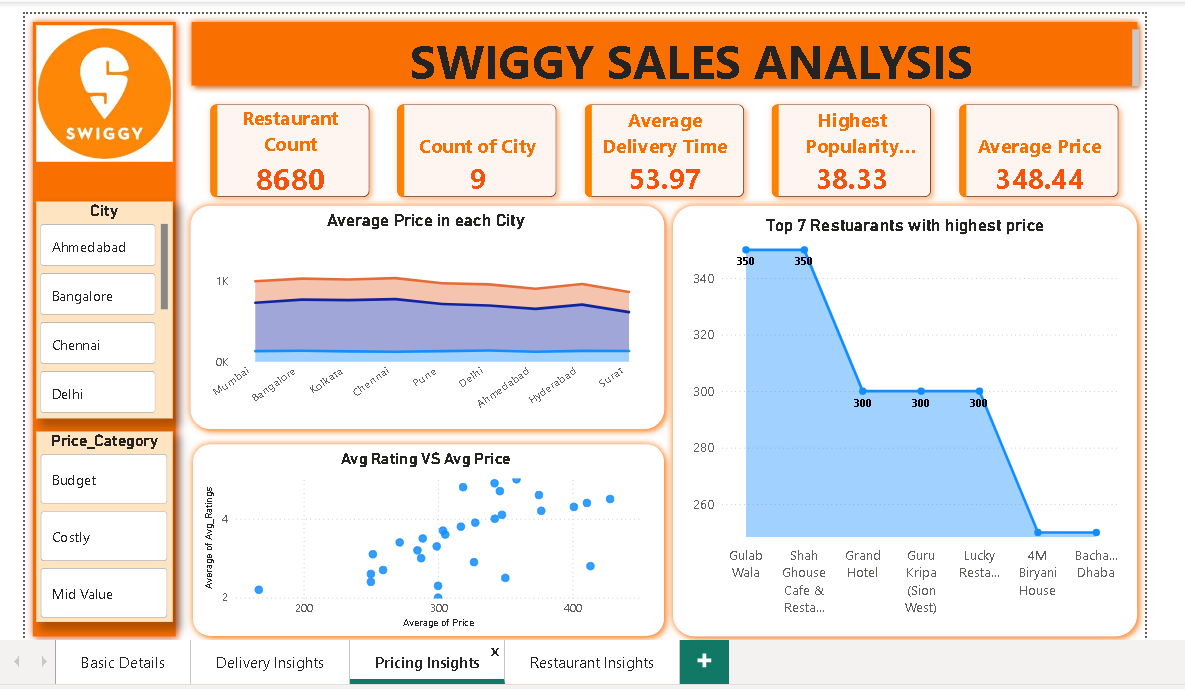

This screenshot's page, from the dashboard's own definition file:
{"tool":"powerbi","page":{"name":"Pricing Insights","canvas":[1280,720],"ordinal":2},"visuals":[{"type":"cardVisual","fields":{"Data":["CountNonNull(public swiggy.Restaurant)","Count(public swiggy.City)","public swiggy.Avg_Del_time","public swiggy.Avg_Pop_Score","public swiggy.Avg_Price"]},"box":[181.3,73.1,1098.8,167],"z":0},{"type":"shape","box":[179.7,209.9,559.7,273.5],"z":1000},{"type":"stackedAreaChart","title":"Average Price in each City","fields":{"Category":["public swiggy.City"],"Y":["public swiggy.Avg_Price"],"Series":["public swiggy.Price_Category"]},"box":[200.4,224.2,516.8,243.3],"z":2000},{"type":"shape","box":[182.9,483.4,556.5,236.9],"z":3000},{"type":"shape","box":[181.3,0,1098.8,90.6],"z":4000},{"type":"textbox","box":[181.3,12.7,1097.2,77.9],"z":5000},{"type":"shape","box":[0,0,181.3,720.3],"z":6000},{"type":"scatterChart","title":"Avg Rating VS Avg Price","fields":{"Category":["public swiggy.Avg_Ratings"],"X":["public swiggy.Price"],"Y":["Avg(public swiggy.Avg_Ratings)"]},"box":[200.4,497.7,516.8,209.9],"z":7000},{"type":"image","box":[12.7,12.7,155.8,155.8],"z":8000},{"type":"shape","box":[731.5,209.9,548.6,510.4],"z":9000},{"type":"stackedAreaChart","title":"Top 7 Restuarants with highest price","fields":{"Category":["public swiggy.Restaurant"],"Y":["Max(public swiggy.Price)"]},"box":[752.1,230.6,508.8,465.9],"z":10000},{"type":"advancedSlicerVisual","fields":{"Values":["public swiggy.City"]},"box":[12.7,214.7,155.8,248.1],"z":11000},{"type":"advancedSlicerVisual","fields":{"Values":["public swiggy.Price_Category"]},"box":[12.7,477,155.8,217.8],"z":12000}]}

Visuals, with their boxes on the page's 1280x720 design canvas (x1, y1, x2, y2). These are canvas units, not pixel positions in the 1185x689 screenshot, which may show the page scaled, cropped or inside an application window:
cardVisual - CountNonNull(public swiggy.Restaurant) x Count(public swiggy.City): 181/73/1280/240
shape: 180/210/739/483
"Average Price in each City" stackedAreaChart: 200/224/717/468
shape: 183/483/739/720
shape: 181/0/1280/91
textbox: 181/13/1278/91
shape: 0/0/181/720
"Avg Rating VS Avg Price" scatterChart: 200/498/717/708
image: 13/13/168/168
shape: 732/210/1280/720
"Top 7 Restuarants with highest price" stackedAreaChart: 752/231/1261/696
advancedSlicerVisual - public swiggy.City: 13/215/168/463
advancedSlicerVisual - public swiggy.Price_Category: 13/477/168/695
